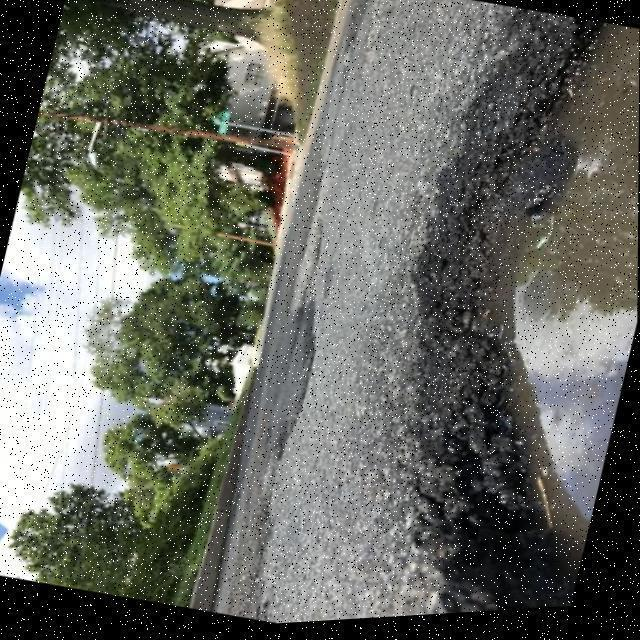Pothole: (409, 17, 640, 620)
